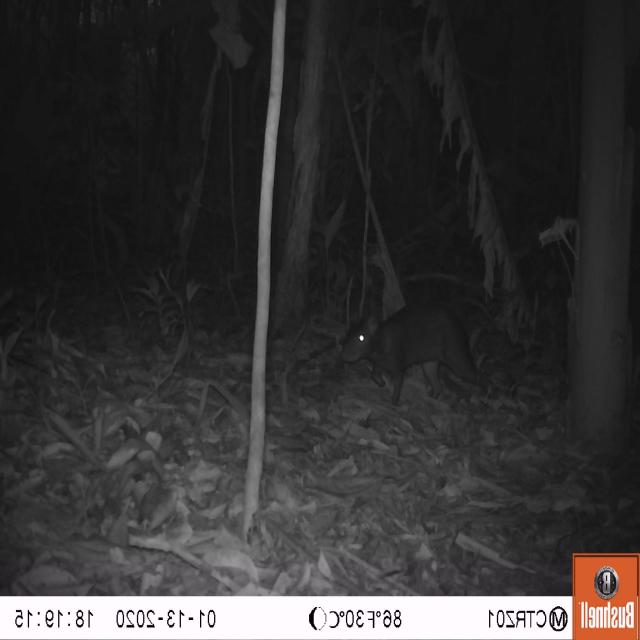Spotted Paca: (329, 287, 499, 410)
